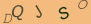D: (2, 13, 13, 24)
J: (32, 4, 44, 19)
O: (78, 1, 88, 10)
Q: (11, 4, 24, 20)
S: (58, 6, 70, 19)
